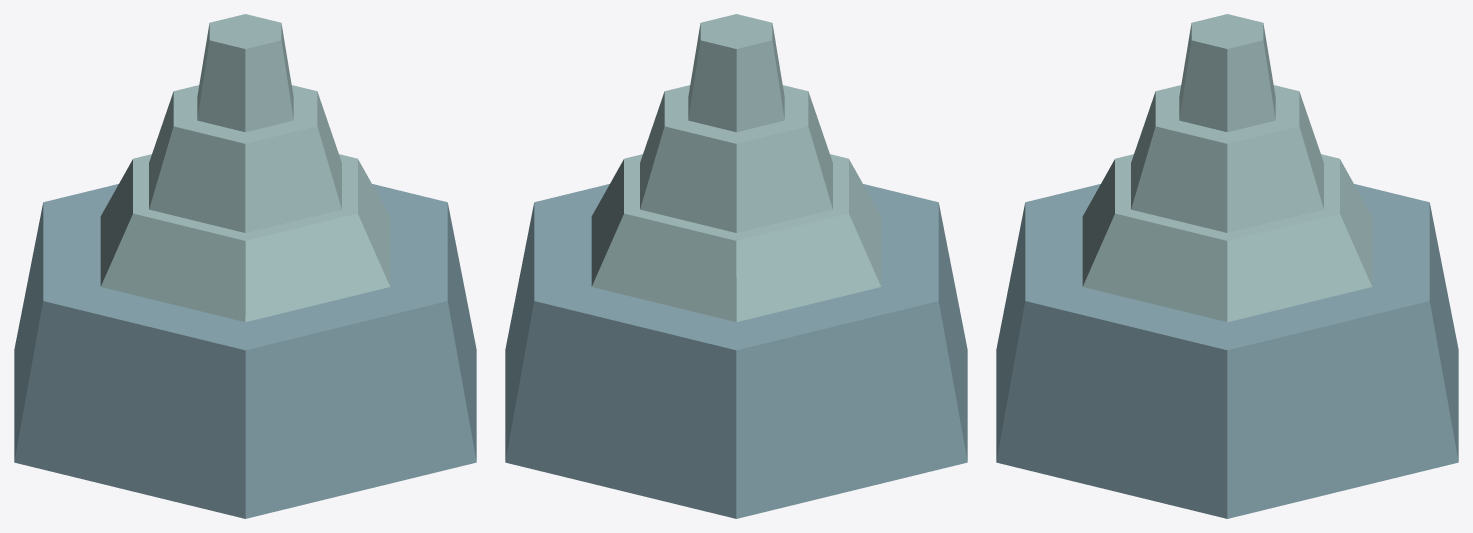
Rendered from map-exclusive-v3__frost_11.glb.
The picture shows the model from 3 angles, left to right: view 1: azimuth 30°, elevation 25°; view 2: azimuth 150°, elevation 25°; view 3: azimuth 270°, elevation 25°; orthographic projection.
Parts seen in each view (by area): view 1: frost_11; view 2: frost_11; view 3: frost_11.
Part boxes in pixels (x1,y1,x2,y2): frost_11: (14,14,476,518); frost_11: (505,14,967,518); frost_11: (996,14,1458,518).
Size of the model in its own units: 1.44 by 1.11 by 1.25.
